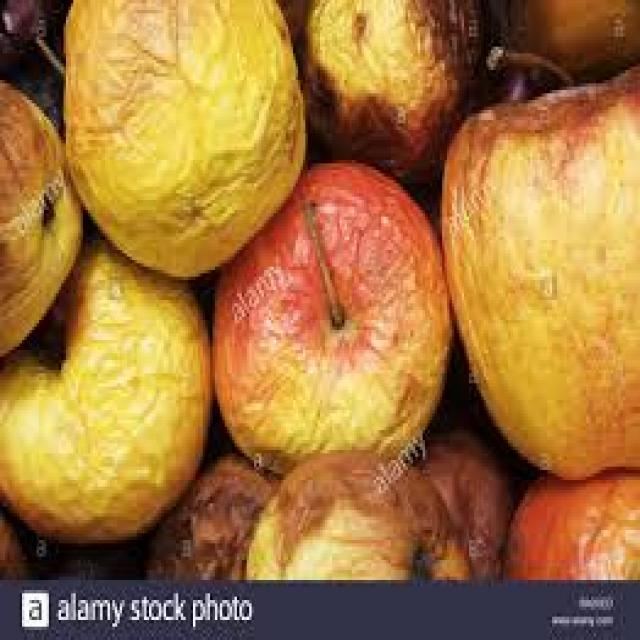organic waste: (0, 0, 638, 577), (437, 40, 638, 473), (210, 156, 447, 466), (0, 223, 210, 540), (59, 0, 303, 270), (298, 0, 484, 180), (242, 460, 471, 577), (0, 77, 81, 353), (144, 446, 283, 576), (415, 423, 513, 580), (500, 467, 638, 573), (486, 0, 637, 83), (29, 540, 149, 580), (0, 0, 56, 77), (0, 503, 29, 573)
